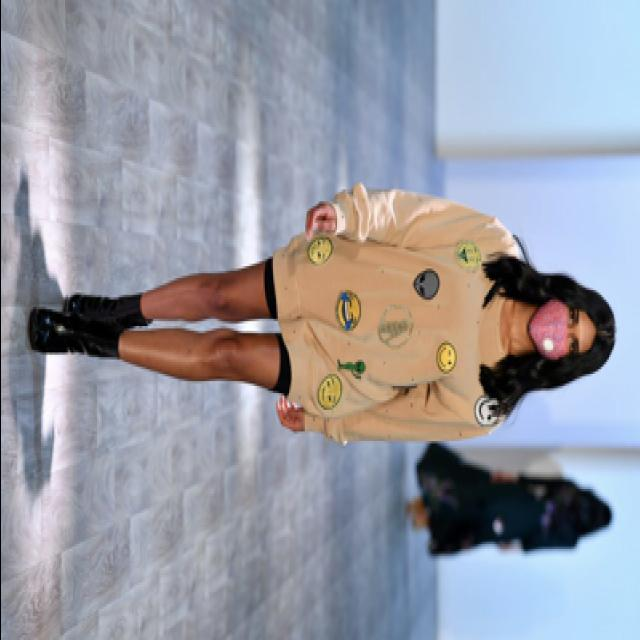mask: (528, 298, 584, 364)
